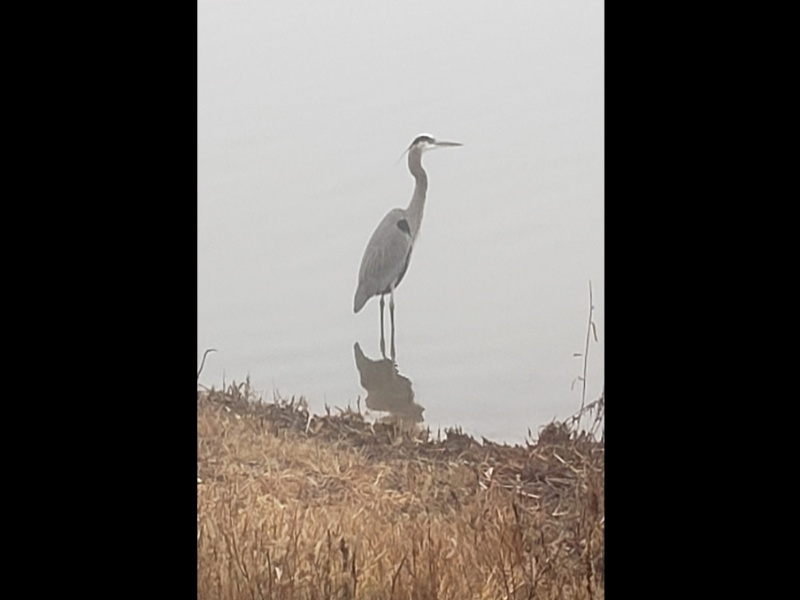heron: (347, 130, 461, 360)
